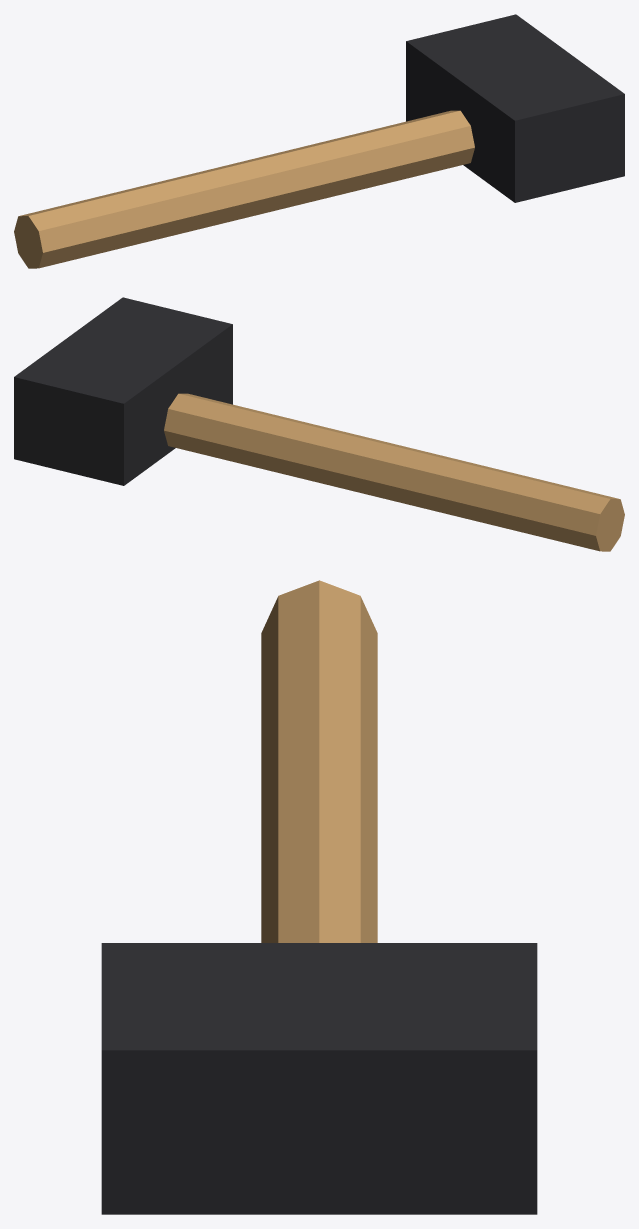
File: GT_Mallet_01.glb
3 renders of one model, top to bottom at view 1: azimuth 30°, elevation 25°; view 2: azimuth 150°, elevation 25°; view 3: azimuth 270°, elevation 25°, orthographic. The views are drawn at different scales.
Parts seen in each view (by area): view 1: GT_Mallet_01; view 2: GT_Mallet_01; view 3: GT_Mallet_01.
Part boxes in pixels (box(x1,y1,x2,y2)): GT_Mallet_01: box(14, 14, 624, 268); GT_Mallet_01: box(14, 297, 624, 551); GT_Mallet_01: box(101, 580, 537, 1214).
Size of the model in its own units: 0.345 by 0.05 by 0.12.
Materials: 1 (1 with a texture image).
